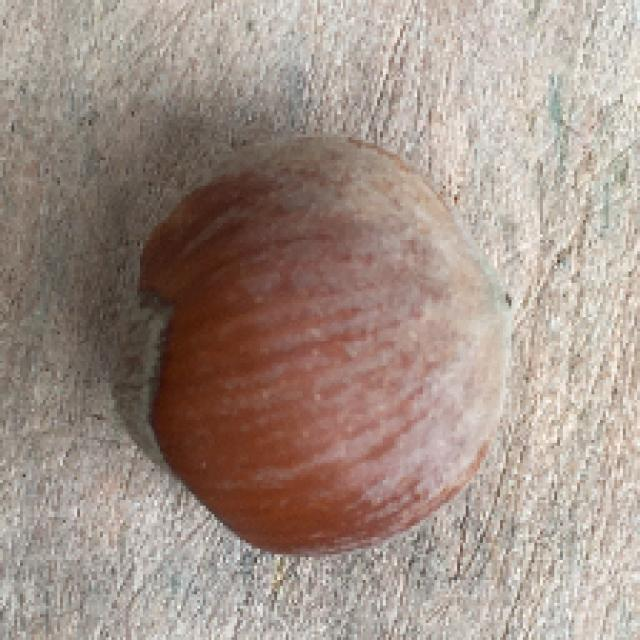qualityHazelnut: (107, 128, 516, 563)
